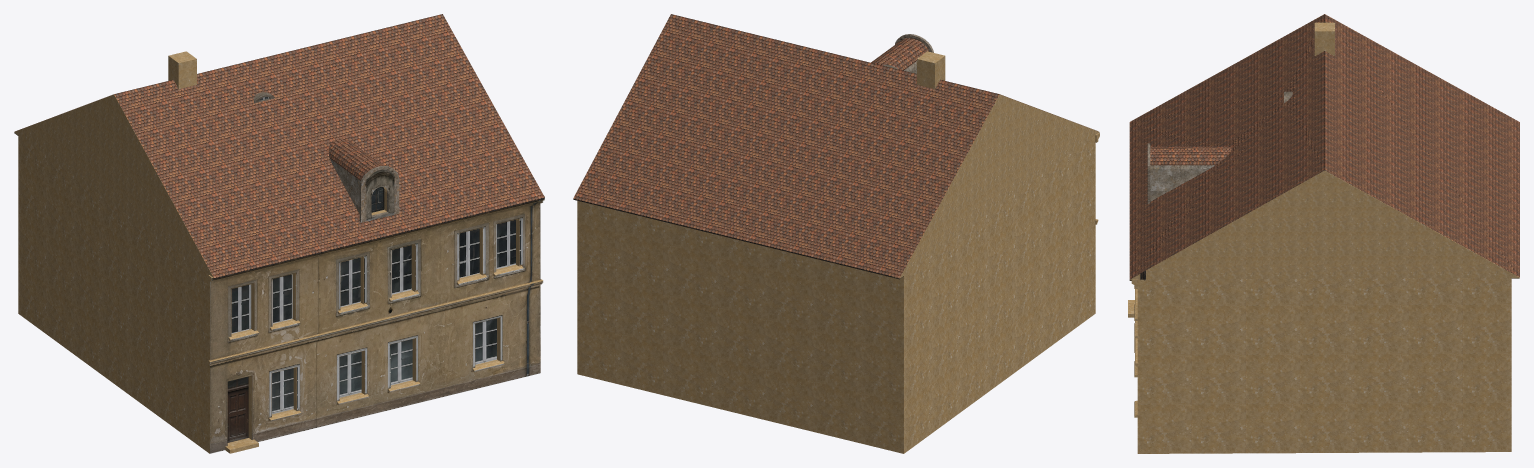
Rendered from cp261_study.glb.
The picture shows the model from 3 angles, left to right: view 1: azimuth 30°, elevation 25°; view 2: azimuth 150°, elevation 25°; view 3: azimuth 270°, elevation 25°; orthographic projection. The views are drawn at different scales.
Visible parts, largest first — view 1: CP_261_Masonry, CP_261_Roof, CP_261_Gable_L_gable, CP_261_Dormer_dormer1, CP_261_Cornice_string_0, CP_261_Dormer_dormer1_frame, CP_261_Cornice_eave_0, CP_261_Chimney_0, CP_261_Roof_EaveClosure_1; view 2: CP_261_Masonry, CP_261_Roof, CP_261_Gable_L_gable, CP_261_Dormer_dormer1, CP_261_Chimney_0, CP_261_Roof_EaveClosure_0; view 3: CP_261_Masonry, CP_261_Roof, CP_261_Gable_R_gable, CP_261_Dormer_dormer1, CP_261_Chimney_0.
Part boxes in pixels (x1,y1,x2,y2): CP_261_Masonry: (18,135,540,453); CP_261_Roof: (15,14,544,277); CP_261_Gable_L_gable: (14,94,213,278); CP_261_Dormer_dormer1: (328,138,386,215); CP_261_Cornice_string_0: (208,279,543,365); CP_261_Dormer_dormer1_frame: (359,165,399,222); CP_261_Cornice_eave_0: (208,196,544,283); CP_261_Chimney_0: (168,51,196,88); CP_261_Roof_EaveClosure_1: (213,197,544,279); CP_261_Masonry: (577,135,1095,453); CP_261_Roof: (573,14,1097,277); CP_261_Gable_L_gable: (893,94,1099,278); CP_261_Dormer_dormer1: (871,38,928,73); CP_261_Chimney_0: (917,51,945,88); CP_261_Roof_EaveClosure_0: (573,198,903,279); CP_261_Masonry: (1137,277,1511,453); CP_261_Roof: (1129,14,1519,278); CP_261_Gable_R_gable: (1130,170,1519,280); CP_261_Dormer_dormer1: (1150,146,1231,201); CP_261_Chimney_0: (1314,22,1334,56).
Bounding box in the file's own units: 13.85 × 12.3 × 14.45.
Materials: 43 (43 with a texture image).
